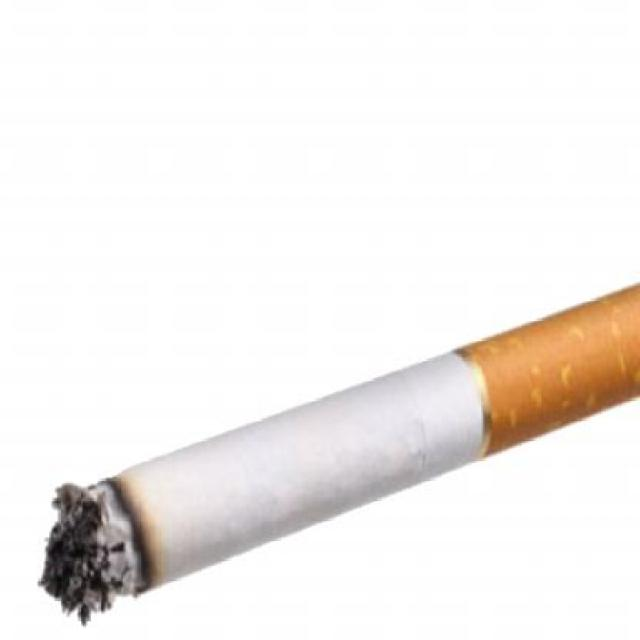cigarette: (41, 270, 639, 613)
